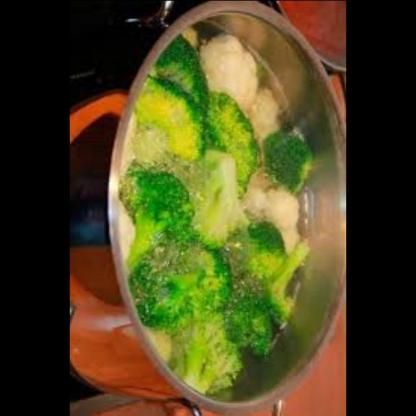broccoli: (137, 67, 317, 337), (177, 300, 246, 399)
cayliflower: (203, 27, 266, 107), (248, 179, 306, 251), (250, 73, 284, 140)
